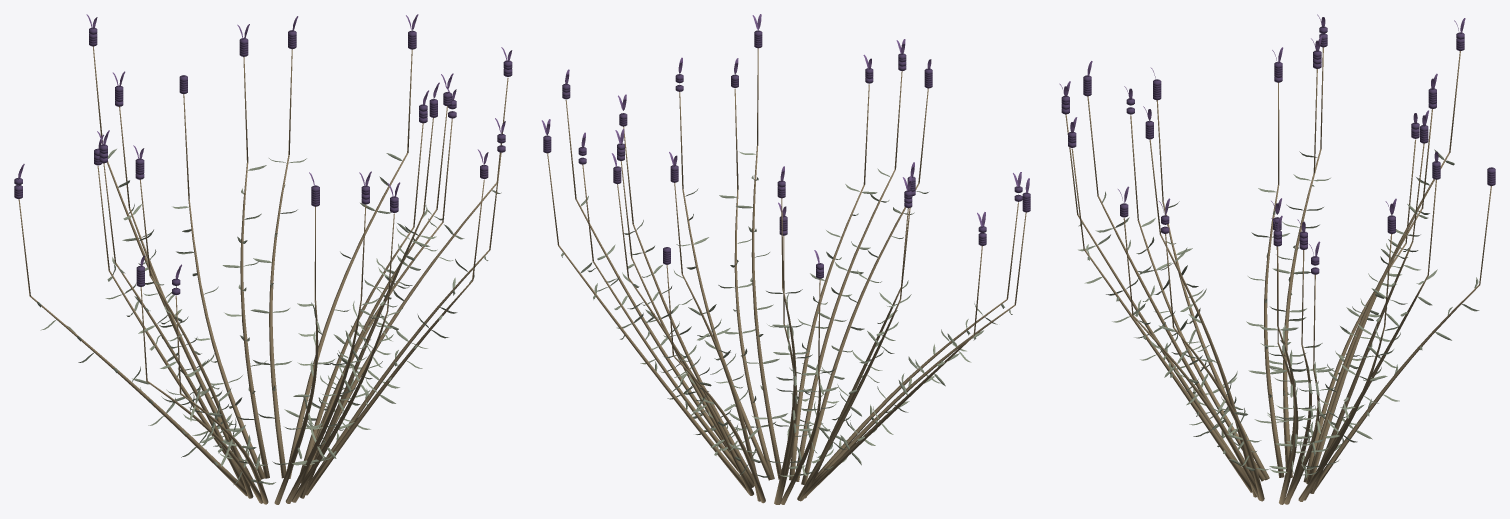
File: Lavande_1_Niveau0.fbx
The picture shows the model from 3 angles, left to right: view 1: azimuth 30°, elevation 25°; view 2: azimuth 150°, elevation 25°; view 3: azimuth 270°, elevation 25°; orthographic projection. The views are drawn at different scales.
Parts seen in each view (by area): view 1: Lavande_1_Niveau0; view 2: Lavande_1_Niveau0; view 3: Lavande_1_Niveau0.
Part boxes in pixels (left/top/right/bottom): Lavande_1_Niveau0: left=14, top=14, right=512, bottom=504; Lavande_1_Niveau0: left=541, top=14, right=1030, bottom=504; Lavande_1_Niveau0: left=1059, top=14, right=1495, bottom=504.
Bounding box in the file's own units: 81.71 × 71.61 × 66.08.
